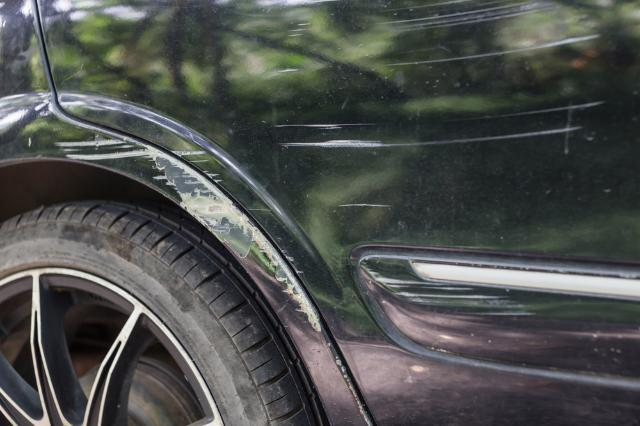scratch: (51, 131, 317, 329), (260, 97, 607, 156), (363, 0, 609, 74), (378, 272, 563, 322)
